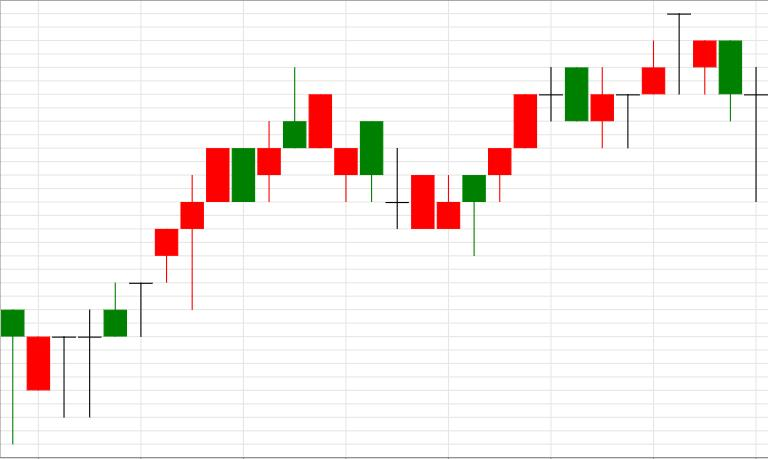shooting_star_fall: (154, 67, 306, 309)
